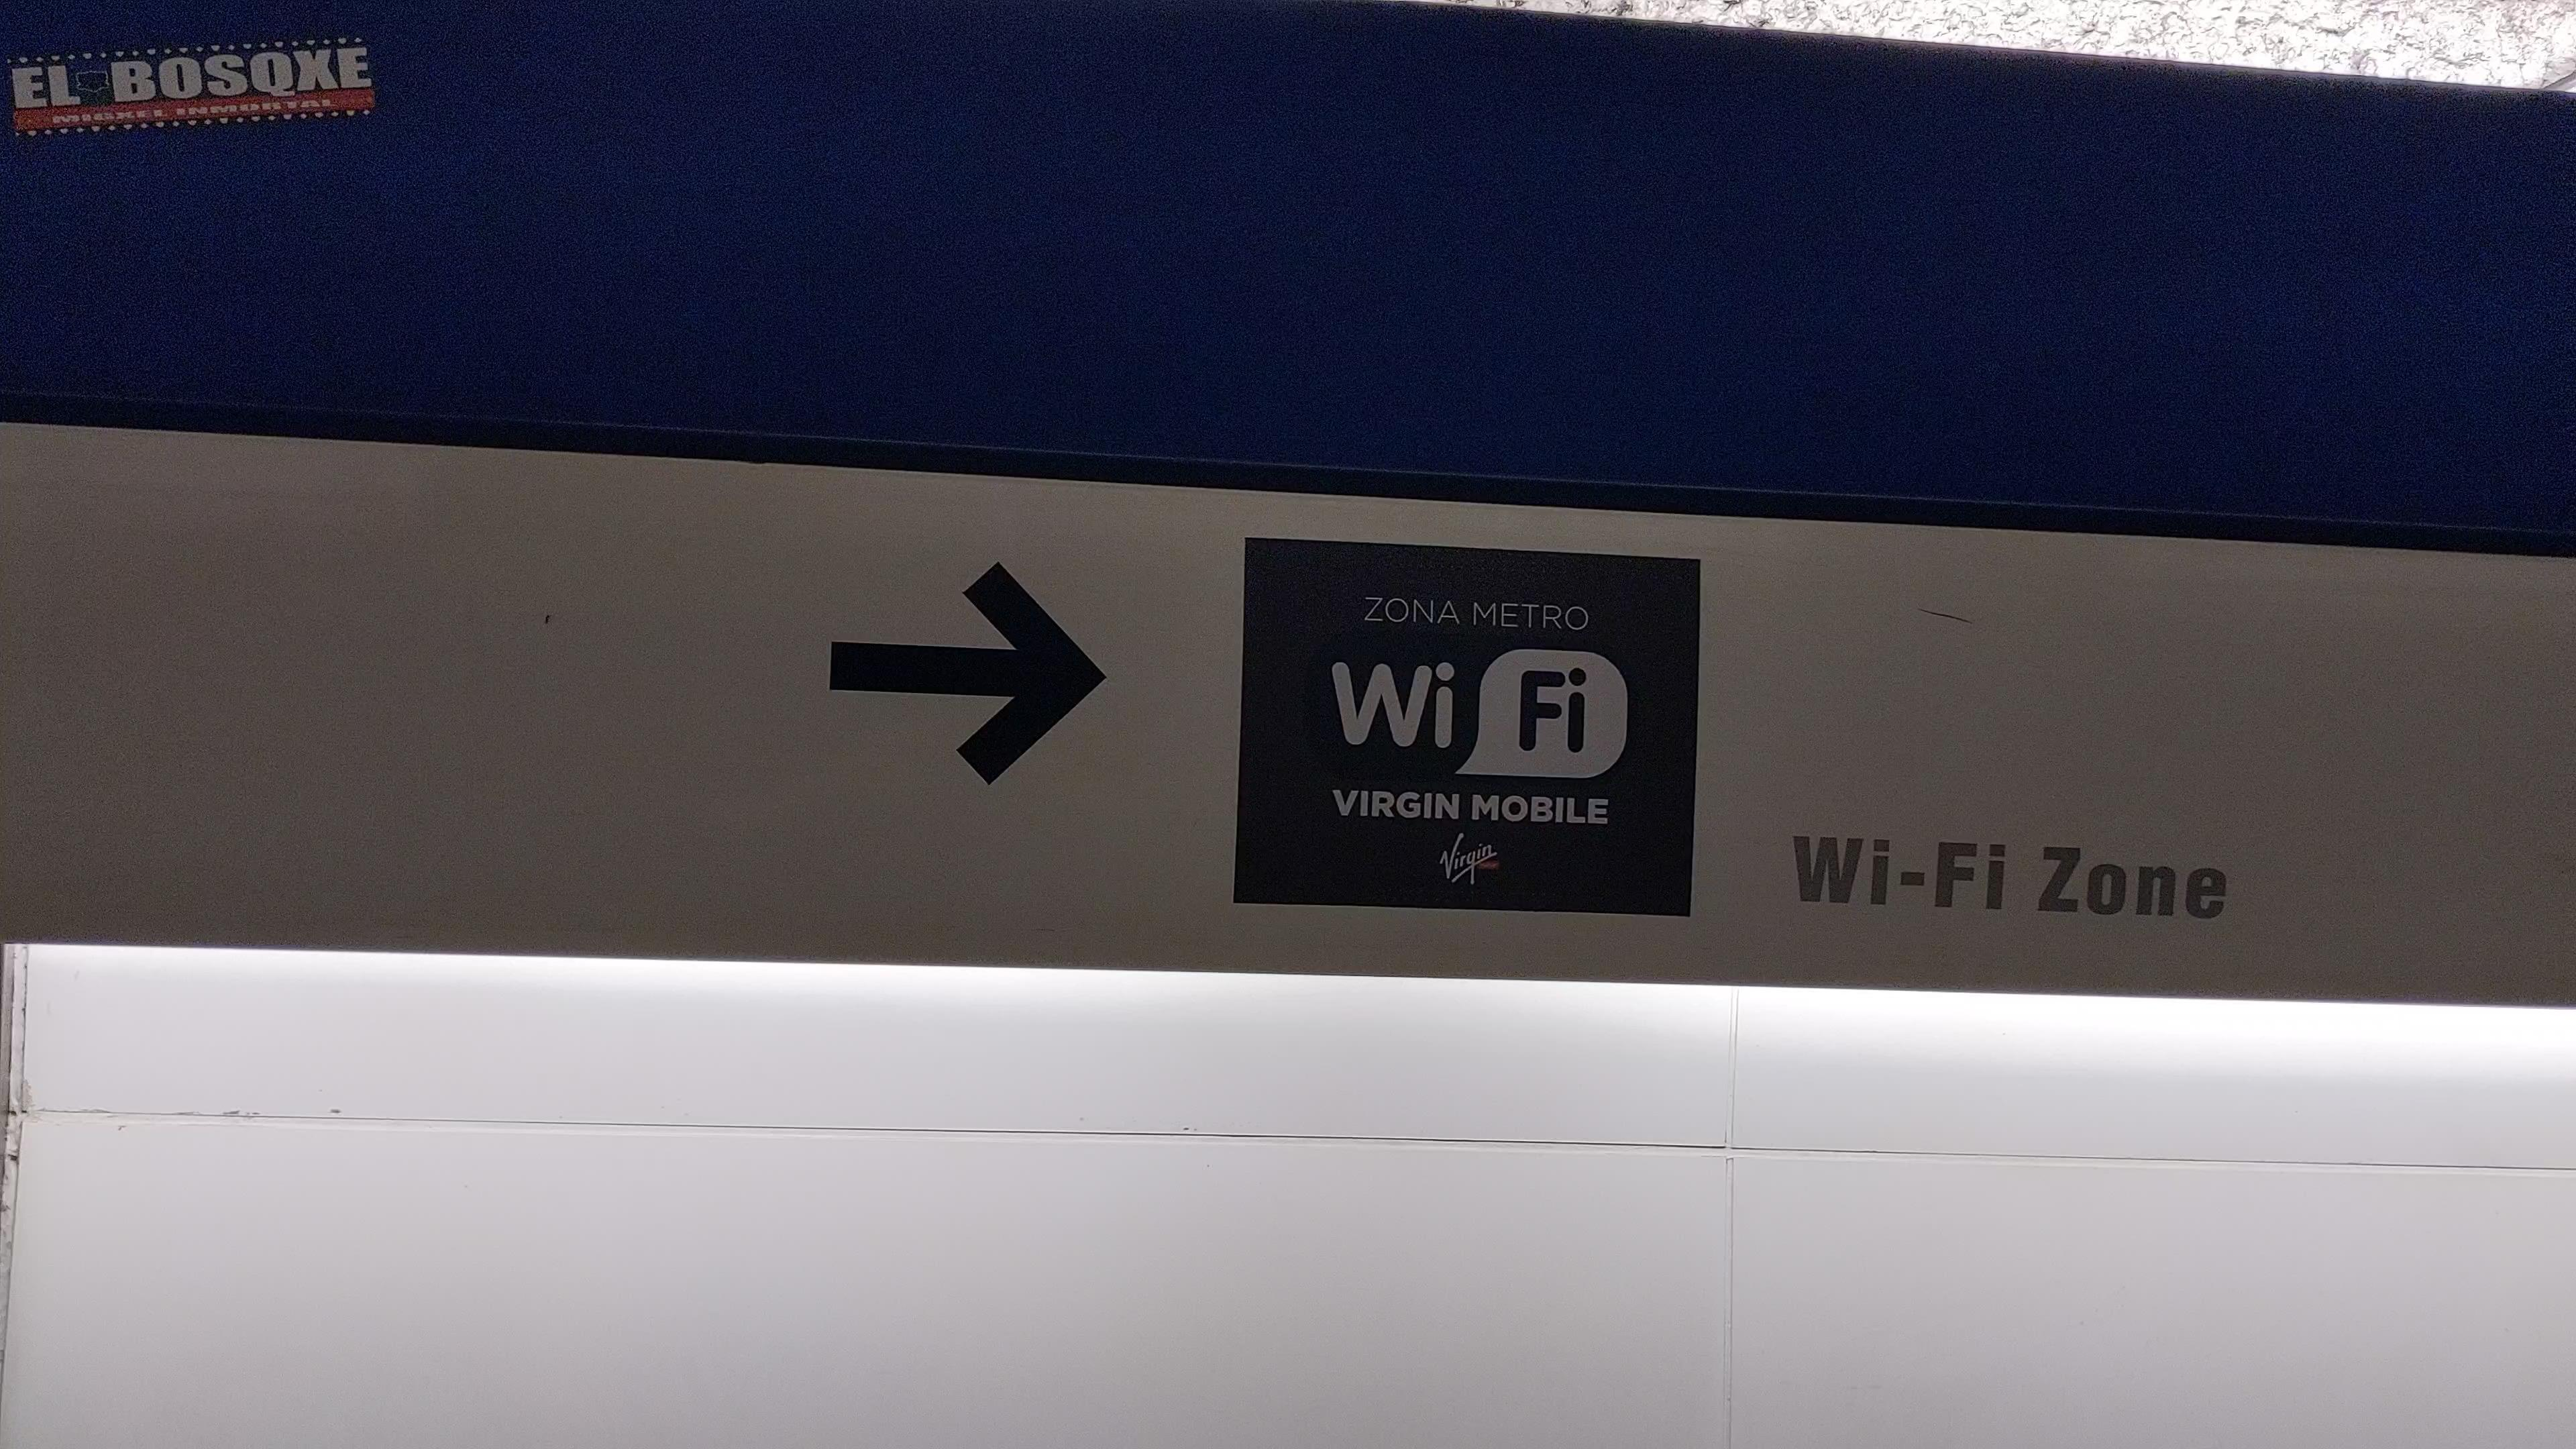right arrow: (816, 554, 1120, 798)
